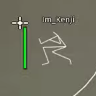hacks_2: (23, 15, 75, 70)
